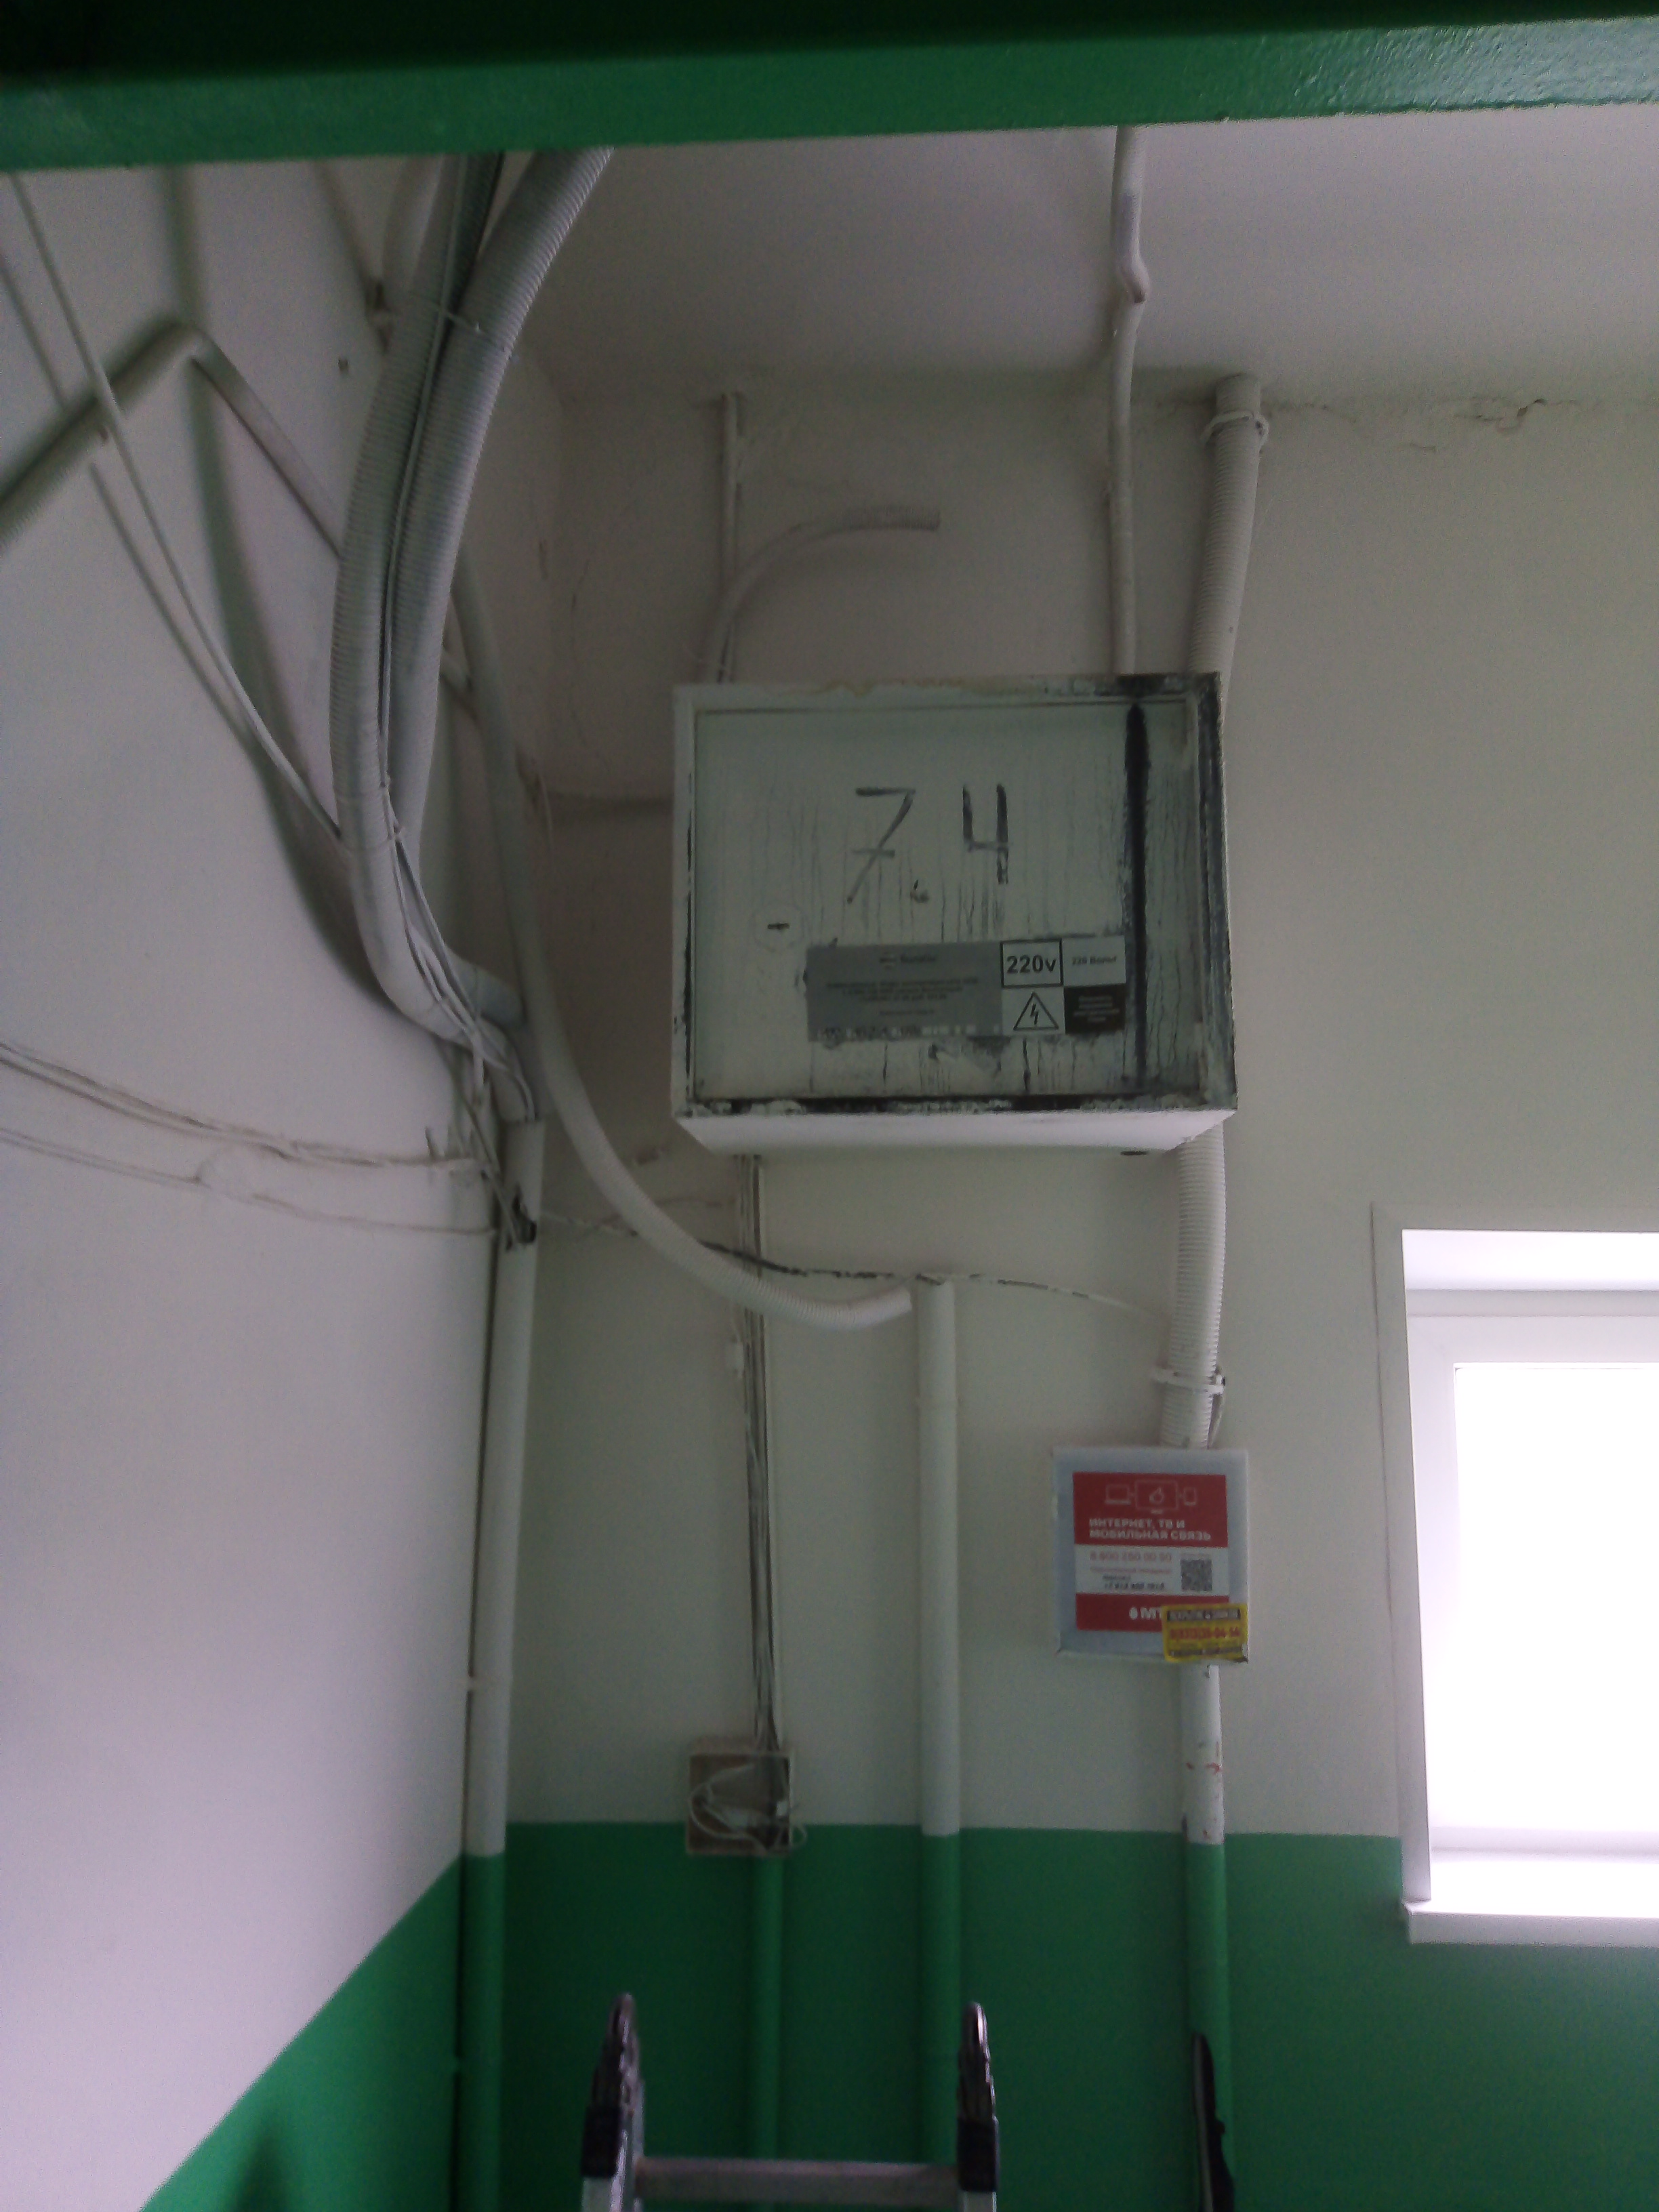shta-9m: (666, 669, 1243, 1162)
